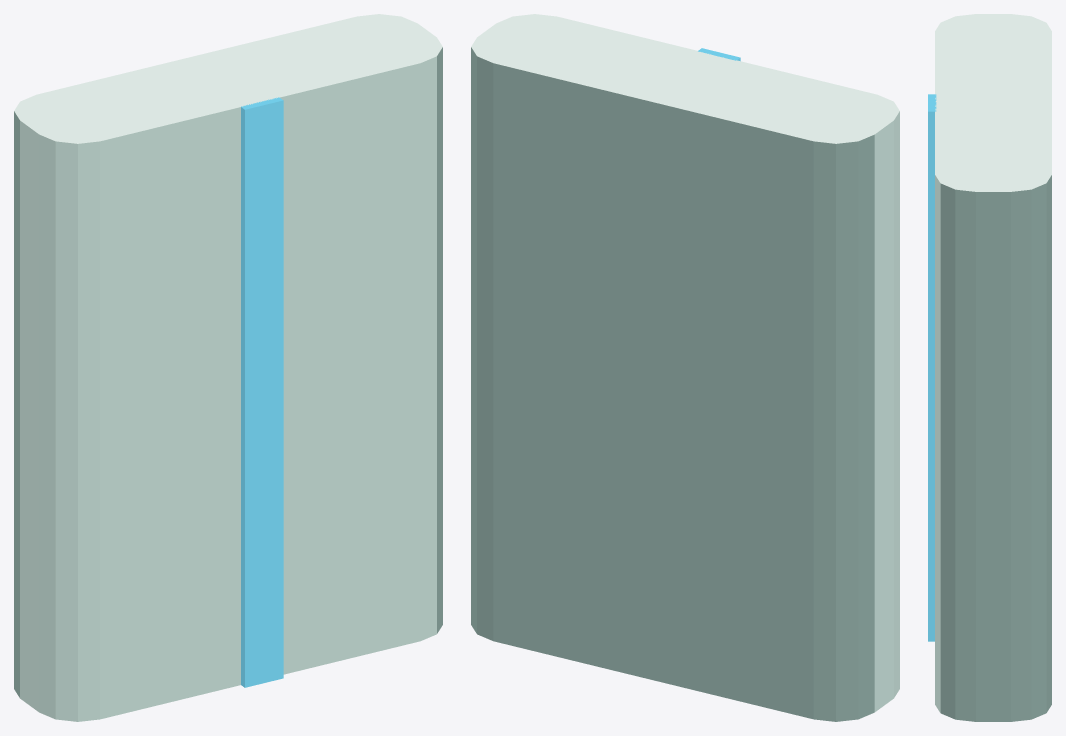
File: Door_LeafTile.gltf
The picture shows the model from 3 angles, left to right: view 1: azimuth 30°, elevation 25°; view 2: azimuth 150°, elevation 25°; view 3: azimuth 270°, elevation 25°; orthographic projection. The views are drawn at different scales.
Parts seen in each view (by area): view 1: Door_LeafTile_baked; view 2: Door_LeafTile_baked; view 3: Door_LeafTile_baked.
Part boxes in pixels (bbox=[...]): Door_LeafTile_baked: bbox=[14, 14, 442, 721]; Door_LeafTile_baked: bbox=[471, 14, 899, 721]; Door_LeafTile_baked: bbox=[928, 14, 1051, 721].
Size of the model in its own units: 0.72 by 1 by 0.212.
